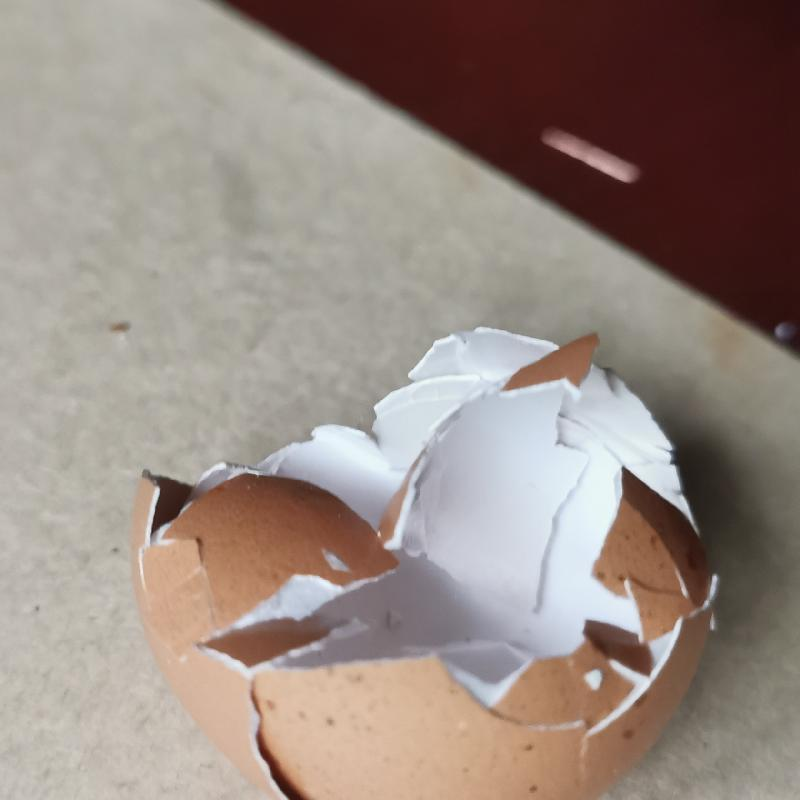eggshell: (112, 321, 721, 800)
